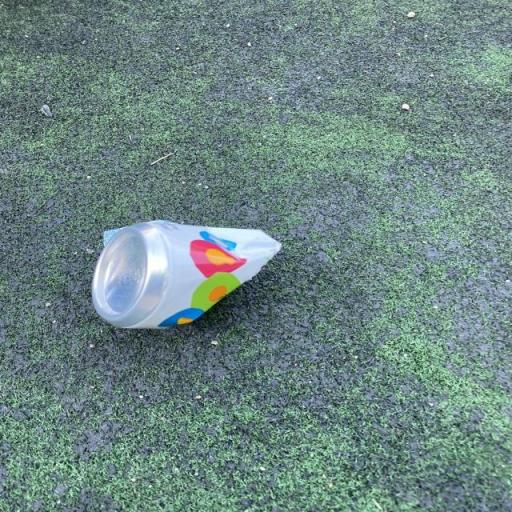metal: (66, 208, 287, 342)
